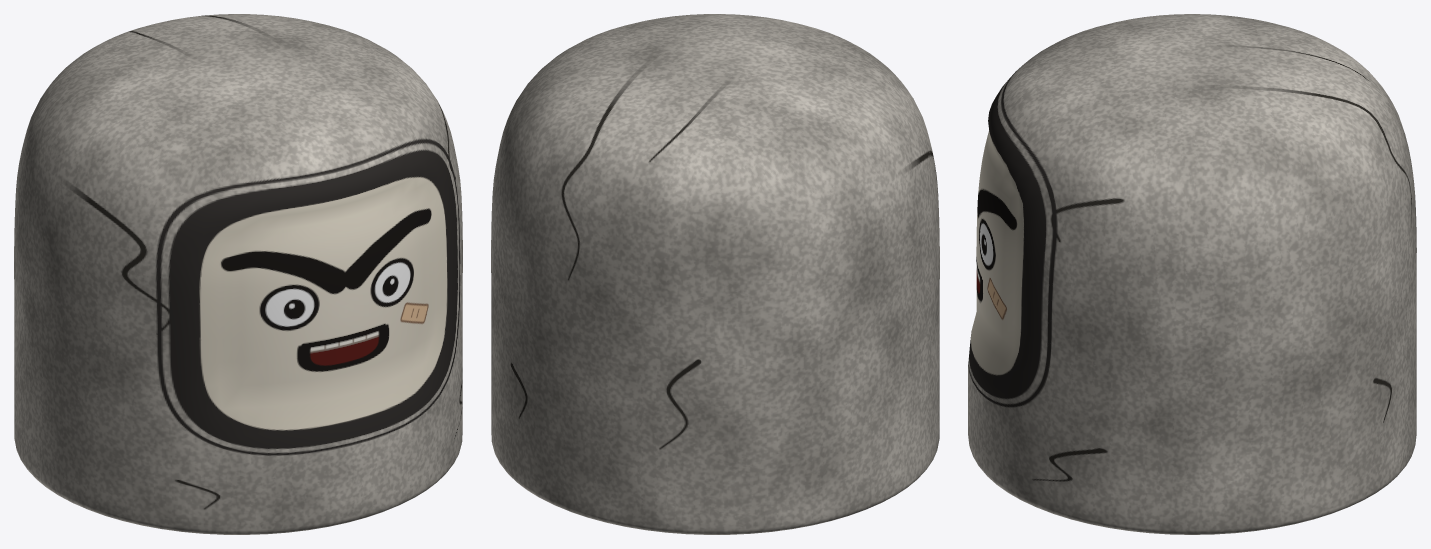
The model's file is iwadaru.fbx.
3 views of the same model, side by side, from view 1: azimuth 30°, elevation 25°; view 2: azimuth 150°, elevation 25°; view 3: azimuth 270°, elevation 25° (orthographic).
Parts seen in each view (by area): view 1: iwadaru; view 2: iwadaru; view 3: iwadaru.
Part boxes in pixels (box(x1,y1,x2,y2)): iwadaru: box(14, 14, 462, 534); iwadaru: box(491, 14, 939, 534); iwadaru: box(968, 14, 1416, 534).
Size of the model in its own units: 1 by 0.9425 by 1.
Materials: 1 (1 with a texture image).
